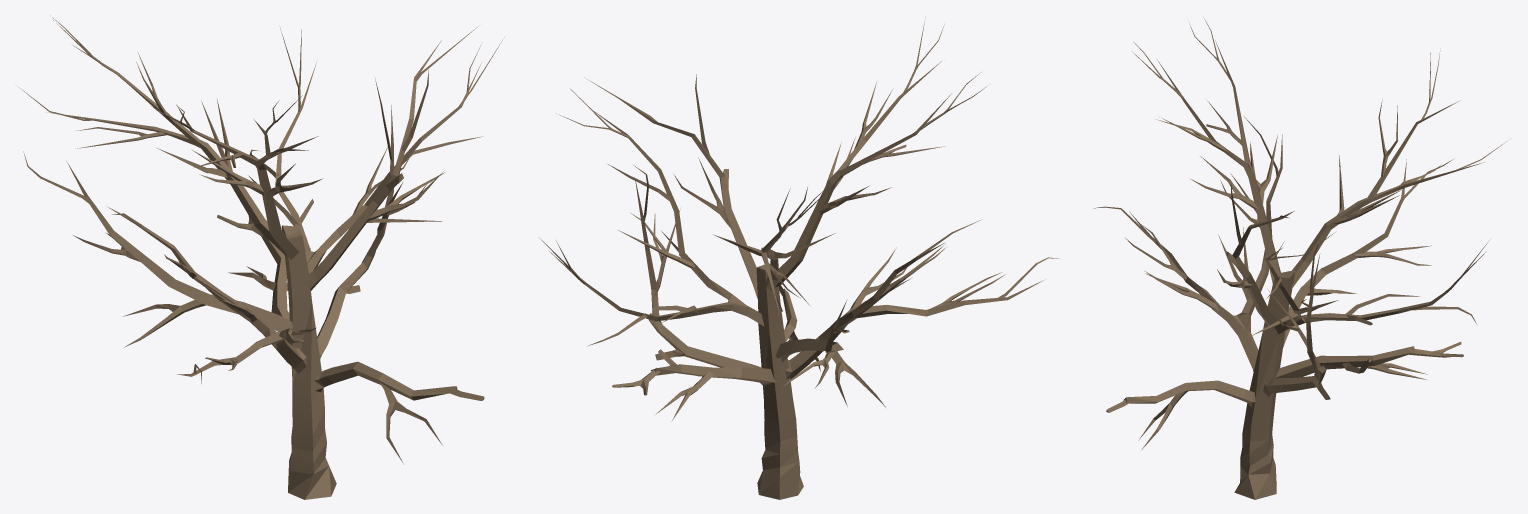
The model's file is tree_bare_a_20.FBX.
3 renders of one model, left to right at view 1: azimuth 30°, elevation 25°; view 2: azimuth 150°, elevation 25°; view 3: azimuth 270°, elevation 25°, orthographic. The views are drawn at different scales.
Visible parts, largest first — view 1: tree_bare_a_20; view 2: tree_bare_a_20; view 3: tree_bare_a_20.
Boxes of the visible parts, box(x1,y1,x2,y2) form: tree_bare_a_20: box(17, 15, 504, 499); tree_bare_a_20: box(539, 18, 1059, 499); tree_bare_a_20: box(1094, 18, 1506, 499).
Bounding box in the file's own units: 5.71 × 6.07 × 5.7.
